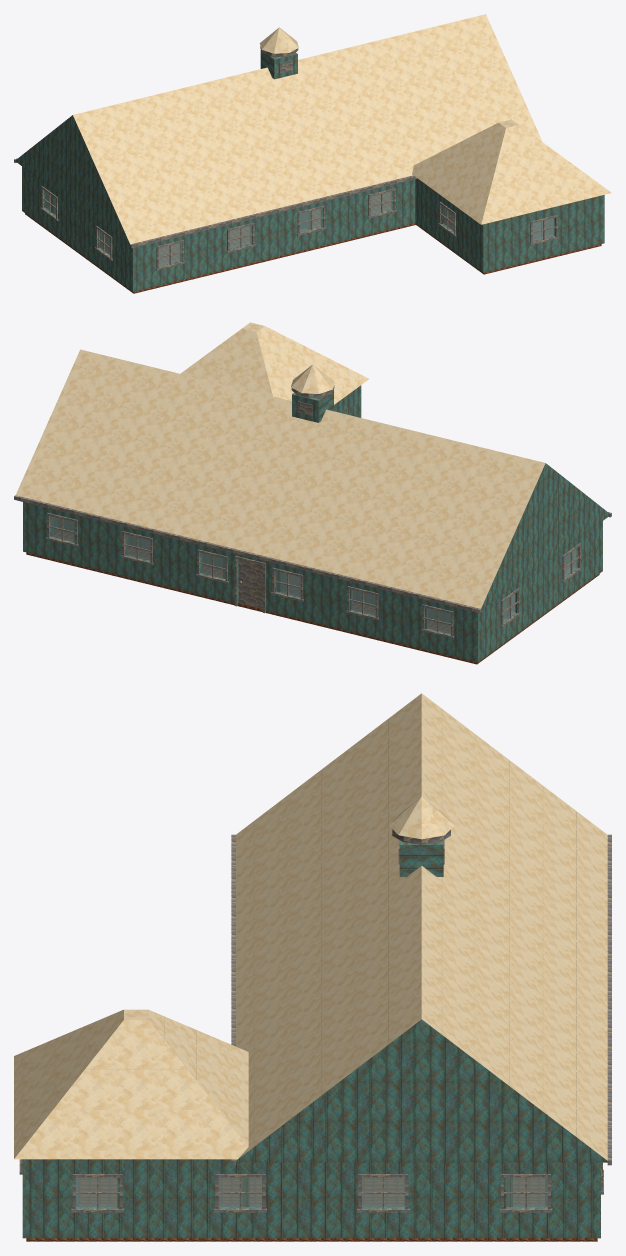
The model's file is whitegate-dairy.gltf.
3 views of the same model, one above another, from view 1: azimuth 30°, elevation 25°; view 2: azimuth 150°, elevation 25°; view 3: azimuth 270°, elevation 25° (orthographic). The views are drawn at different scales.
Visible parts, largest first — view 1: roof-L0-green-metal, exterior-L0-cream-siding, roof-L0-cream-siding, trim-L0-dark-wood, glazing-L0-glass, floor-L0-floor, roof-L0-dark-wood, details-L0-green-metal, details-L0-cream-siding, interior-L0-interior; view 2: roof-L0-green-metal, exterior-L0-cream-siding, roof-L0-cream-siding, trim-L0-dark-wood, glazing-L0-glass, roof-L0-dark-wood, floor-L0-floor, interior-L0-interior, door-leaf-L0-dark-wood, details-L0-green-metal, details-L0-cream-siding; view 3: roof-L0-green-metal, exterior-L0-cream-siding, roof-L0-cream-siding, floor-L0-floor, glazing-L0-glass, trim-L0-dark-wood, roof-L0-dark-wood, details-L0-green-metal, details-L0-cream-siding.
Boxes of the visible parts, bbox=[...] form: roof-L0-green-metal: bbox=[73, 14, 611, 244]; exterior-L0-cream-siding: bbox=[22, 166, 604, 291]; roof-L0-cream-siding: bbox=[15, 115, 130, 244]; trim-L0-dark-wood: bbox=[40, 186, 558, 270]; glazing-L0-glass: bbox=[45, 191, 554, 266]; floor-L0-floor: bbox=[25, 192, 601, 293]; roof-L0-dark-wood: bbox=[14, 158, 417, 248]; details-L0-green-metal: bbox=[259, 27, 298, 53]; details-L0-cream-siding: bbox=[260, 50, 297, 79]; interior-L0-interior: bbox=[51, 195, 552, 244]; roof-L0-green-metal: bbox=[16, 322, 545, 608]; exterior-L0-cream-siding: bbox=[23, 385, 602, 662]; roof-L0-cream-siding: bbox=[481, 463, 610, 609]; trim-L0-dark-wood: bbox=[45, 513, 581, 638]; glazing-L0-glass: bbox=[50, 516, 576, 633]; roof-L0-dark-wood: bbox=[14, 495, 611, 613]; floor-L0-floor: bbox=[26, 531, 599, 664]; interior-L0-interior: bbox=[58, 518, 511, 625]; door-leaf-L0-dark-wood: bbox=[238, 559, 262, 609]; details-L0-green-metal: bbox=[291, 364, 334, 393]; details-L0-cream-siding: bbox=[292, 390, 333, 422]; roof-L0-green-metal: bbox=[14, 693, 607, 1160]; exterior-L0-cream-siding: bbox=[22, 1159, 600, 1238]; roof-L0-cream-siding: bbox=[234, 1019, 608, 1162]; floor-L0-floor: bbox=[26, 1178, 597, 1241]; glazing-L0-glass: bbox=[75, 1177, 547, 1207]; trim-L0-dark-wood: bbox=[19, 1159, 603, 1212]; roof-L0-dark-wood: bbox=[231, 834, 611, 1165]; details-L0-green-metal: bbox=[389, 796, 454, 839]; details-L0-cream-siding: bbox=[399, 840, 443, 876].
Size of the model in its own units: 17.56 by 7.23 by 13.61.
7 materials, 6 textured.
